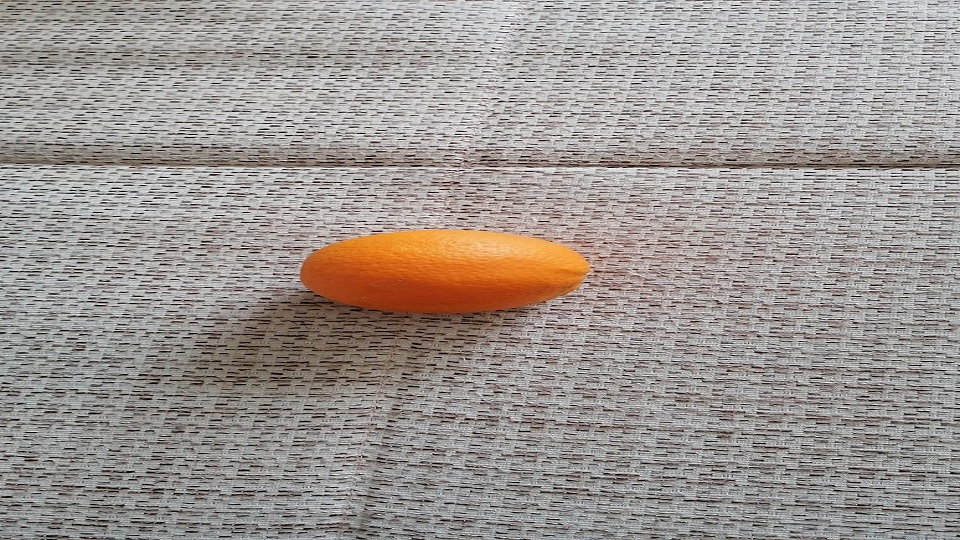portakal: (299, 227, 591, 316)
